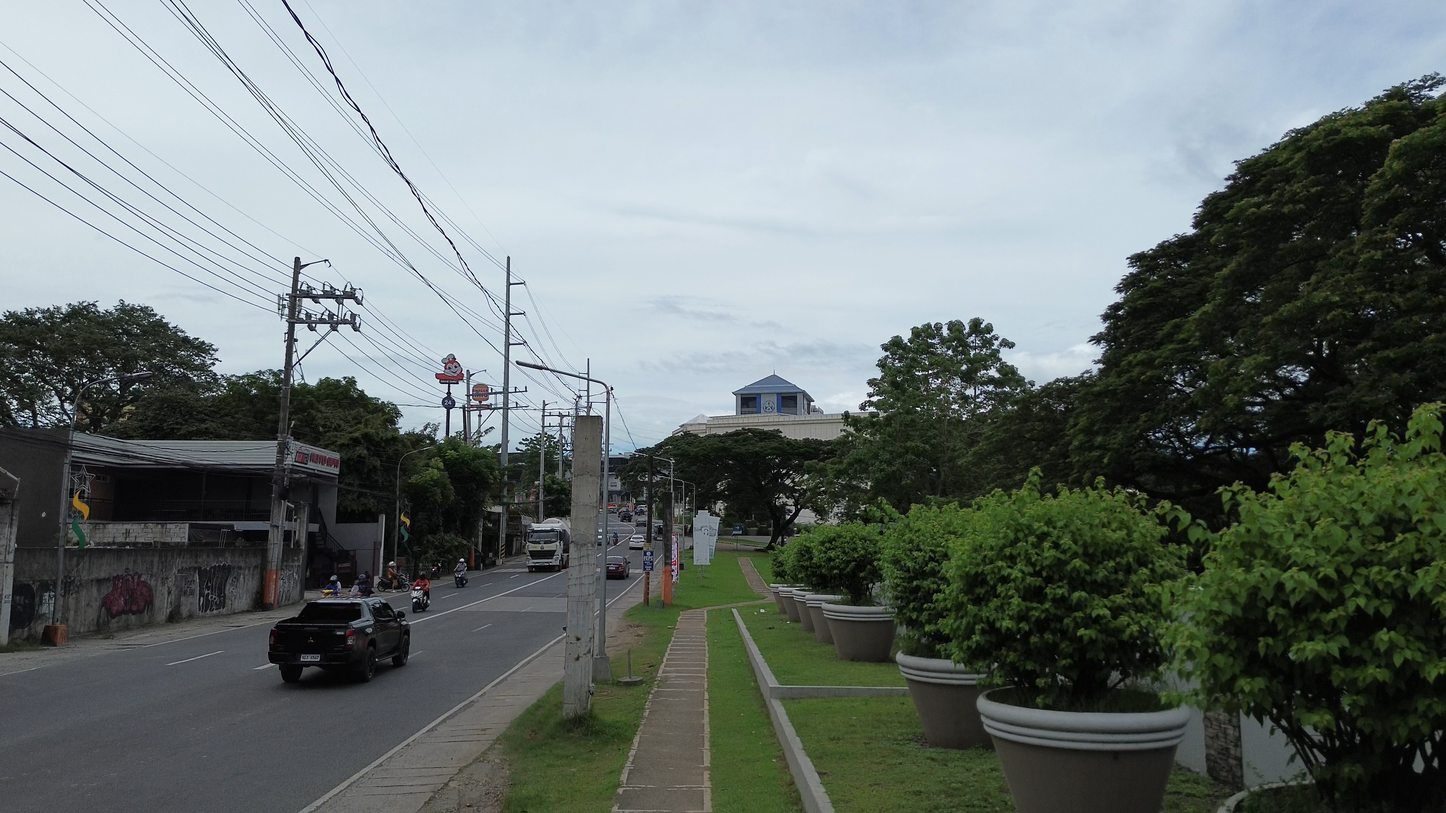motorcycle: (410, 586, 429, 612), (454, 572, 467, 587)
vehicle: (268, 598, 410, 682), (526, 518, 570, 571), (606, 556, 630, 579), (410, 583, 429, 612), (628, 533, 646, 550), (732, 524, 743, 536)
